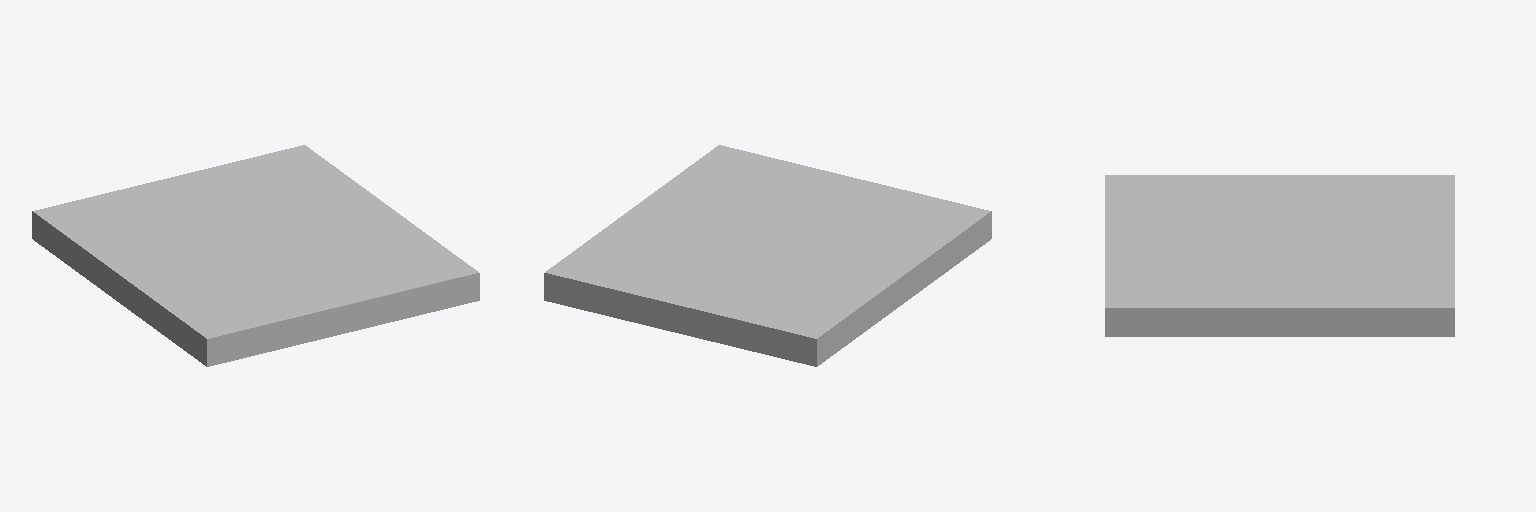
Rendered from floor_fracture.obj.
3 views of the same model, side by side, from view 1: azimuth 30°, elevation 25°; view 2: azimuth 150°, elevation 25°; view 3: azimuth 270°, elevation 25° (orthographic).
Parts seen in each view (by area): view 1: Box01_frag_36_frag_01, Box01_frag_23_frag_01, Box01_frag_41_frag_01, Box01_frag_57_frag_02, Box01_frag_39_frag_05, Box01_frag_64_frag_09, Box01_frag_07_frag_01, Box01_frag_64_frag_07, Box01_frag_46_frag_02, Box01_frag_07_frag_09, Box01_frag_55_frag_03, Box01_frag_01_frag_03 (+8 smaller); view 2: Box01_frag_17_frag_04, Box01_frag_22_frag_01, Box01_frag_41_frag_01, Box01_frag_61_frag_06, Box01_frag_57_frag_02, Box01_frag_23_frag_01, Box01_frag_32_frag_05, Box01_frag_31_frag_01, Box01_frag_61_frag_03, Box01_frag_46_frag_02, Box01_frag_55_frag_03, Box01_frag_01_frag_03 (+4 smaller); view 3: Box01_frag_60_frag_08, Box01_frag_44_frag_02, Box01_frag_44_frag_08, Box01_frag_21_frag_02, Box01_frag_64_frag_02, Box01_frag_60_frag_06, Box01_frag_52_frag_01, Box01_frag_62_frag_06, Box01_frag_46_frag_02, Box01_frag_01_frag_03, Box01_frag_55_frag_03, Box01_frag_48_frag_04 (+7 smaller).
Boxes of the visible parts, x1=… form: Box01_frag_36_frag_01: x1=357, y1=283, x2=393, y2=328; Box01_frag_23_frag_01: x1=184, y1=321, x2=227, y2=358; Box01_frag_41_frag_01: x1=76, y1=234, x2=116, y2=286; Box01_frag_57_frag_02: x1=95, y1=252, x2=130, y2=303; Box01_frag_39_frag_05: x1=211, y1=317, x2=252, y2=362; Box01_frag_64_frag_09: x1=437, y1=269, x2=469, y2=308; Box01_frag_07_frag_01: x1=322, y1=290, x2=364, y2=317; Box01_frag_64_frag_07: x1=411, y1=281, x2=441, y2=313; Box01_frag_46_frag_02: x1=213, y1=272, x2=272, y2=294; Box01_frag_07_frag_09: x1=322, y1=308, x2=363, y2=338; Box01_frag_55_frag_03: x1=319, y1=265, x2=378, y2=286; Box01_frag_01_frag_03: x1=115, y1=230, x2=153, y2=252; Box01_frag_17_frag_04: x1=700, y1=307, x2=749, y2=350; Box01_frag_22_frag_01: x1=796, y1=325, x2=833, y2=366; Box01_frag_41_frag_01: x1=827, y1=289, x2=881, y2=328; Box01_frag_61_frag_06: x1=582, y1=269, x2=626, y2=314; Box01_frag_57_frag_02: x1=857, y1=275, x2=904, y2=318; Box01_frag_23_frag_01: x1=951, y1=206, x2=991, y2=254; Box01_frag_32_frag_05: x1=664, y1=292, x2=694, y2=335; Box01_frag_31_frag_01: x1=745, y1=311, x2=780, y2=353; Box01_frag_61_frag_03: x1=560, y1=266, x2=606, y2=296; Box01_frag_46_frag_02: x1=844, y1=209, x2=874, y2=240; Box01_frag_55_frag_03: x1=759, y1=182, x2=808, y2=205; Box01_frag_01_frag_03: x1=796, y1=275, x2=858, y2=294; Box01_frag_60_frag_08: x1=1149, y1=299, x2=1197, y2=336; Box01_frag_44_frag_02: x1=1372, y1=306, x2=1420, y2=336; Box01_frag_44_frag_08: x1=1329, y1=307, x2=1371, y2=336; Box01_frag_21_frag_02: x1=1196, y1=298, x2=1246, y2=336; Box01_frag_64_frag_02: x1=1105, y1=300, x2=1136, y2=336; Box01_frag_60_frag_06: x1=1129, y1=300, x2=1165, y2=336; Box01_frag_52_frag_01: x1=1289, y1=301, x2=1321, y2=336; Box01_frag_62_frag_06: x1=1232, y1=296, x2=1273, y2=325; Box01_frag_46_frag_02: x1=1162, y1=206, x2=1234, y2=225; Box01_frag_01_frag_03: x1=1311, y1=185, x2=1357, y2=209; Box01_frag_55_frag_03: x1=1138, y1=252, x2=1196, y2=273; Box01_frag_48_frag_04: x1=1152, y1=190, x2=1206, y2=212.
Size of the model in its own units: 142 by 14.03 by 158.